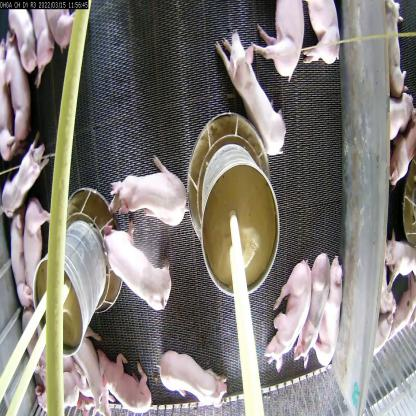Pig: (216, 22, 288, 164), (103, 227, 180, 322), (112, 161, 197, 238), (160, 334, 228, 416), (90, 340, 163, 415), (300, 0, 356, 94), (255, 0, 302, 82), (27, 209, 58, 310), (296, 248, 319, 371), (0, 134, 38, 207), (266, 260, 298, 346), (322, 254, 345, 362), (8, 52, 28, 142)
